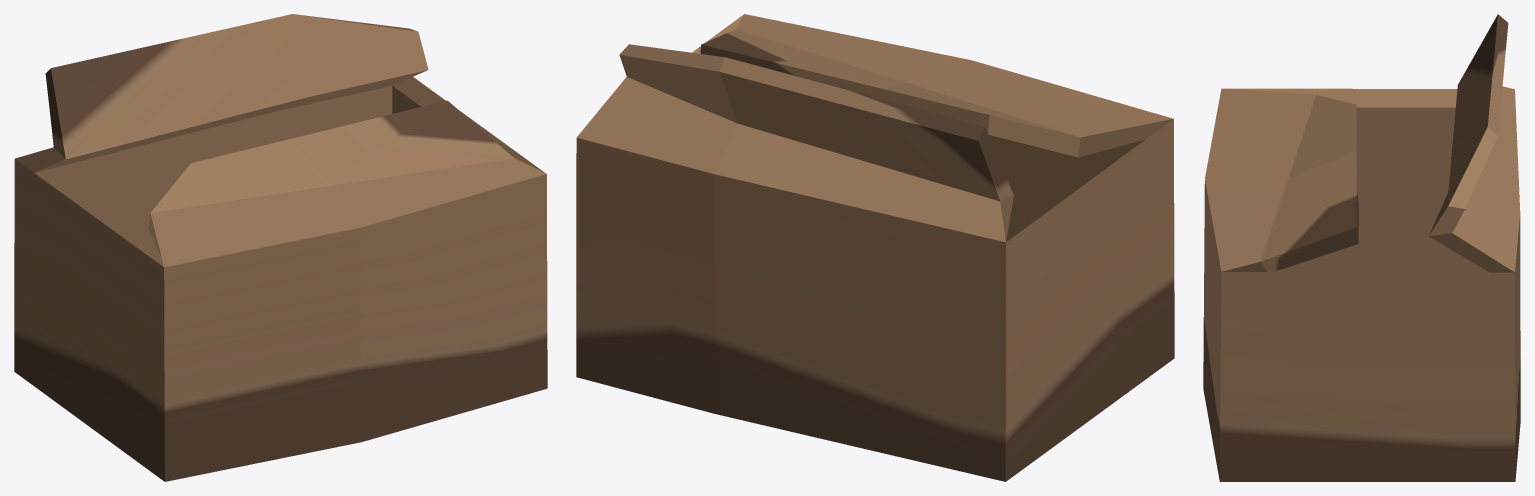
Rendered from SM_Cardboard_Box_A.fbx.
3 renders of one model, left to right at view 1: azimuth 30°, elevation 25°; view 2: azimuth 150°, elevation 25°; view 3: azimuth 270°, elevation 25°, orthographic. The views are drawn at different scales.
Visible parts, largest first — view 1: SM_Cardboard_Box_A; view 2: SM_Cardboard_Box_A; view 3: SM_Cardboard_Box_A.
Boxes of the visible parts, box(x1,y1,x2,y2) form: SM_Cardboard_Box_A: box(14, 14, 547, 481); SM_Cardboard_Box_A: box(576, 14, 1174, 481); SM_Cardboard_Box_A: box(1203, 14, 1520, 481).
Size of the model in its own units: 71.66 by 54.33 by 52.42.
